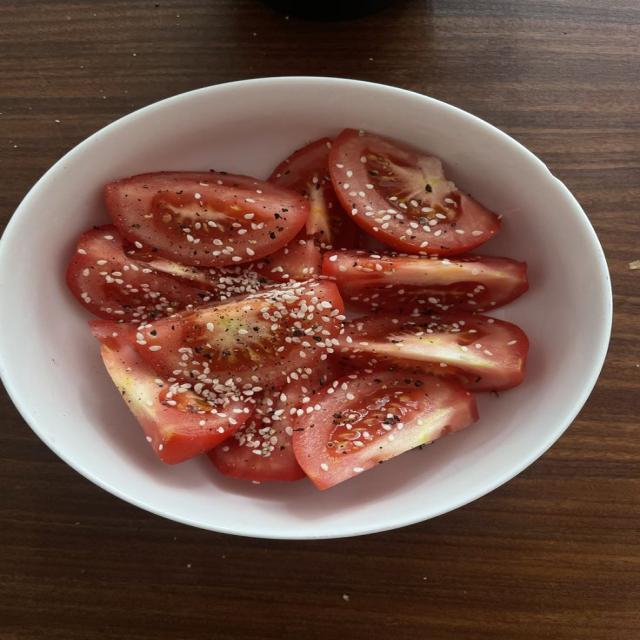sliced tomatoe: (90, 321, 253, 463), (134, 280, 344, 390), (294, 372, 477, 489), (330, 130, 499, 255), (106, 172, 308, 266), (339, 313, 528, 391), (209, 364, 331, 481), (258, 138, 358, 280), (67, 226, 213, 320), (323, 250, 528, 315), (269, 138, 358, 249), (208, 387, 305, 481), (125, 242, 274, 300), (255, 233, 322, 281)
